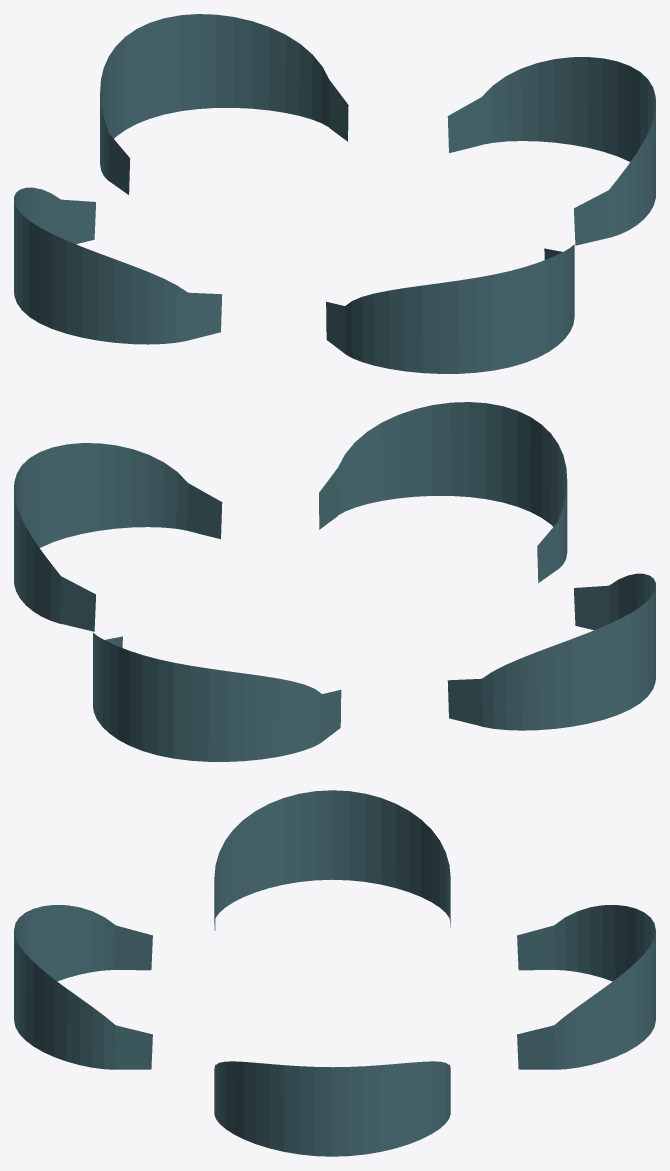
Rendered from stamfordtowerbottomwindows.glb.
3 views of the same model, one above another, from view 1: azimuth 30°, elevation 25°; view 2: azimuth 150°, elevation 25°; view 3: azimuth 270°, elevation 25° (orthographic). The views are drawn at different scales.
Visible parts, largest first — view 1: BezierCircle.010, BezierCircle.003, BezierCircle.004, BezierCircle.009; view 2: BezierCircle.003, BezierCircle.010, BezierCircle.004, BezierCircle.009; view 3: BezierCircle.009, BezierCircle.004, BezierCircle.003, BezierCircle.010.
Part boxes in pixels (bbox=[...]): BezierCircle.010: bbox=[100, 14, 348, 194]; BezierCircle.003: bbox=[326, 244, 574, 373]; BezierCircle.004: bbox=[447, 57, 655, 245]; BezierCircle.009: bbox=[14, 187, 222, 344]; BezierCircle.003: bbox=[319, 402, 567, 582]; BezierCircle.010: bbox=[93, 633, 341, 761]; BezierCircle.004: bbox=[14, 443, 222, 631]; BezierCircle.009: bbox=[447, 573, 655, 730]; BezierCircle.009: bbox=[214, 790, 450, 930]; BezierCircle.004: bbox=[214, 1061, 450, 1156]; BezierCircle.003: bbox=[14, 905, 152, 1069]; BezierCircle.010: bbox=[517, 905, 655, 1069].
Size of the model in its own units: 10.06 by 1.52 by 9.85.
